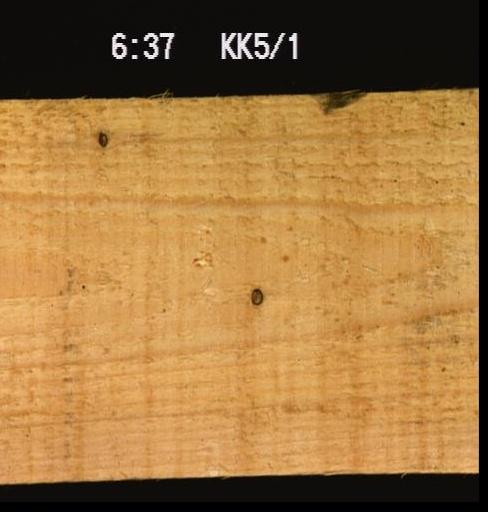dry_knot: (247, 286, 262, 304), (94, 128, 107, 145)
